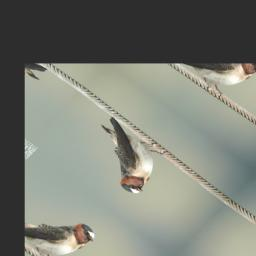Swallow: (71, 112, 178, 202)
